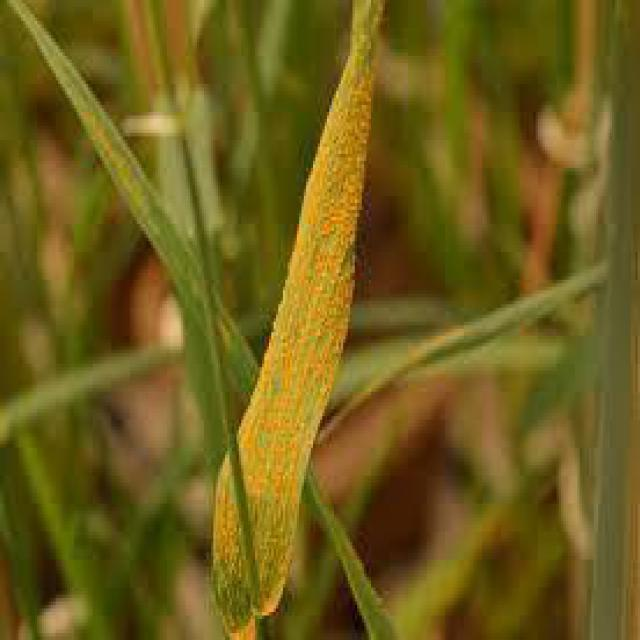wheat-yellowrust: (211, 0, 387, 640)
